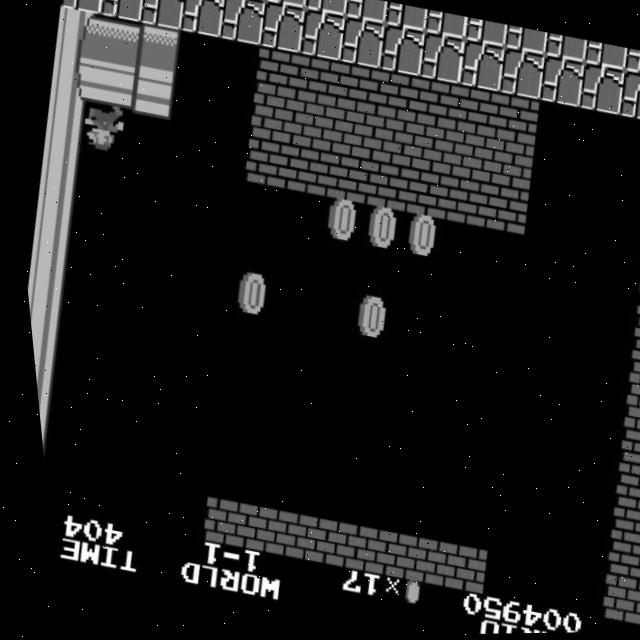1- brick_block: (361, 113, 416, 168), (426, 540, 480, 595), (481, 137, 535, 192), (487, 92, 541, 147), (441, 129, 495, 184), (401, 121, 455, 176), (306, 517, 361, 571), (267, 509, 321, 564), (328, 61, 382, 116), (227, 501, 281, 556), (288, 53, 342, 108), (187, 493, 241, 548), (248, 45, 302, 100), (386, 533, 440, 587), (447, 85, 501, 139), (346, 525, 400, 579), (407, 77, 461, 131), (368, 69, 422, 123), (322, 106, 376, 160), (282, 98, 336, 152), (236, 135, 290, 189), (242, 90, 296, 144), (585, 573, 638, 627), (436, 175, 489, 229), (396, 167, 449, 221), (356, 159, 409, 213), (316, 151, 369, 205), (277, 143, 330, 197), (475, 183, 528, 236), (592, 529, 640, 582), (598, 484, 640, 536), (604, 439, 640, 492), (610, 394, 640, 447), (617, 350, 640, 402), (622, 305, 640, 358), (628, 260, 640, 313), (635, 216, 640, 268)
11- little_mario: (72, 100, 128, 157)
14- pipe: (50, 6, 104, 61), (83, 59, 137, 113), (89, 14, 143, 68), (26, 186, 80, 240), (32, 141, 86, 195), (44, 51, 97, 105), (20, 231, 73, 284), (38, 97, 91, 150), (21, 275, 67, 329), (24, 320, 61, 374), (28, 365, 55, 418), (31, 410, 48, 463)
15- pipe_head: (129, 22, 183, 77), (123, 67, 177, 121)
17- undestructible_block: (294, 8, 349, 63), (533, 55, 587, 110), (493, 47, 547, 102), (453, 40, 508, 94), (334, 16, 388, 71), (255, 0, 309, 55), (573, 63, 627, 117), (414, 32, 468, 86), (374, 24, 428, 78), (215, 0, 269, 46), (176, 0, 229, 39), (137, 0, 190, 31), (612, 71, 640, 125), (581, 41, 628, 73), (541, 33, 588, 65), (382, 2, 429, 34), (461, 18, 509, 49), (501, 26, 548, 57), (422, 10, 469, 41), (98, 0, 150, 23), (342, 0, 389, 25), (303, 0, 350, 17), (59, 0, 110, 15), (620, 50, 640, 81), (264, 0, 310, 10)
2- coin: (389, 211, 443, 266), (349, 203, 403, 258), (310, 195, 364, 250), (218, 269, 272, 324), (337, 293, 391, 347)
